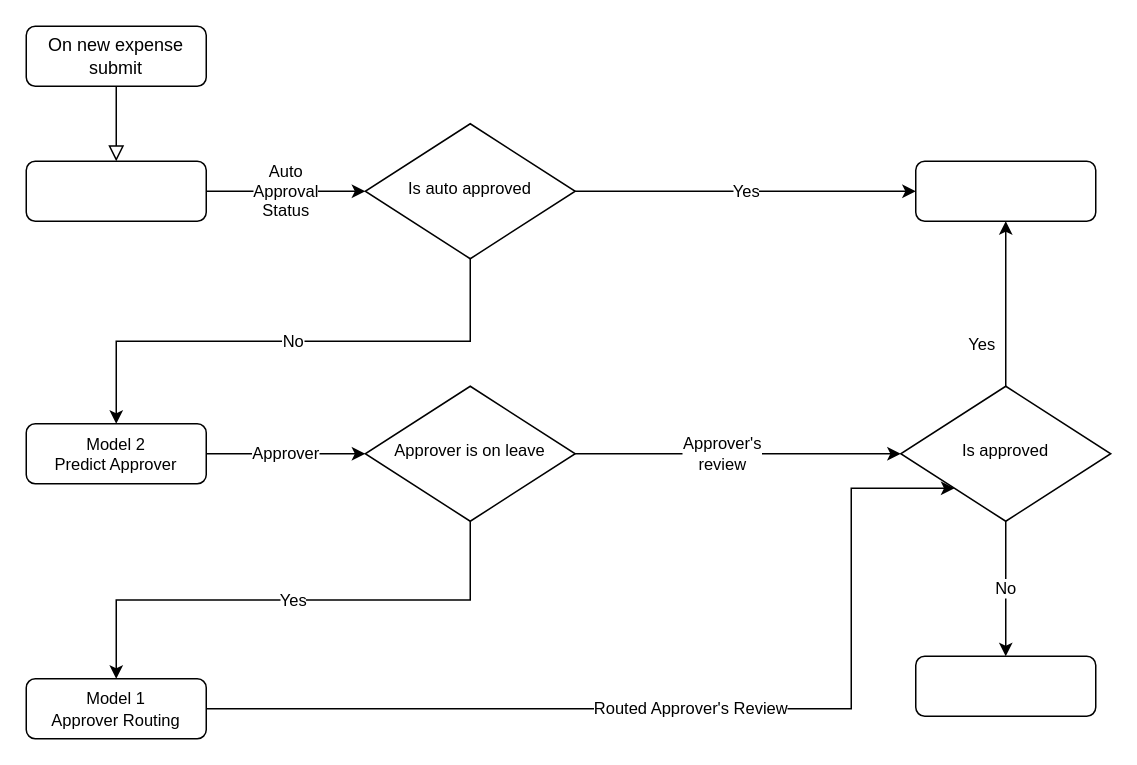
The diagram is 1137 pixels wide and 765 high, and some of its shapes have lost their labels. Each missing label, with the box of its shape:
Expense Approved: (914, 160, 1096, 221)
Expense Denied: (914, 655, 1096, 716)
Model 3 Auto Approval: (25, 160, 206, 221)
